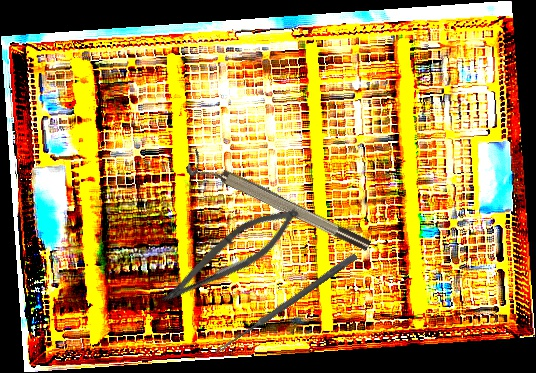Fixation Ring: (184, 148, 373, 262)
Micro Scissor: (153, 191, 308, 322)
Surgical Spoon: (214, 251, 358, 357)
